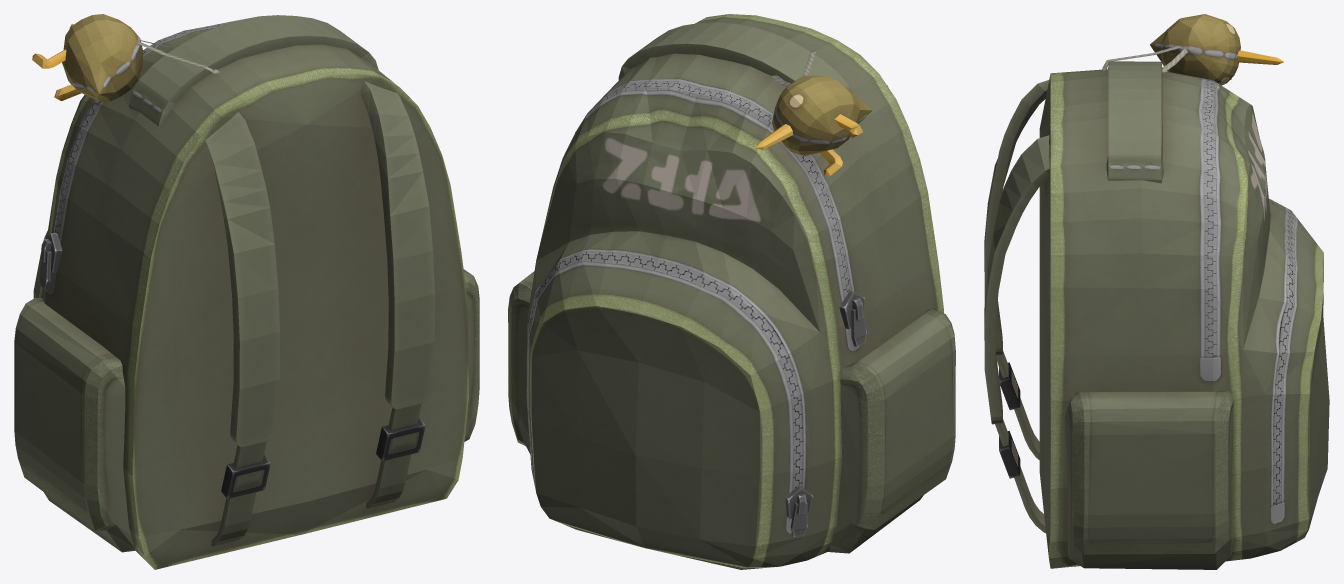
Rendered from P_Backpack_002_S1_M01.obj.
3 renders of one model, left to right at view 1: azimuth 30°, elevation 25°; view 2: azimuth 150°, elevation 25°; view 3: azimuth 270°, elevation 25°, orthographic. The views are drawn at different scales.
Bounding box in the file's own units: 0.373 × 0.4403 × 0.3118.
1 material, 1 textured.
